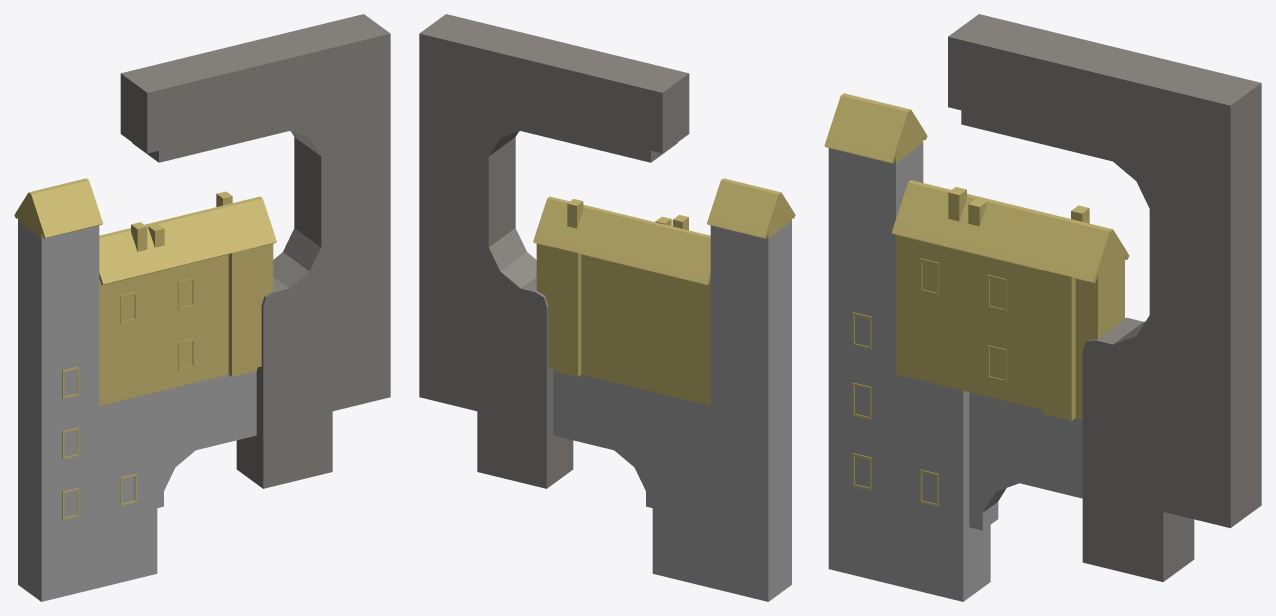
File: clifftest2.fbx
3 renders of one model, left to right at view 1: azimuth 30°, elevation 25°; view 2: azimuth 150°, elevation 25°; view 3: azimuth 330°, elevation 25°, orthographic. The views are drawn at different scales.
Visible parts, largest first — view 1: pCube47, pCube35, pCube37, pCube36, pCube38, pCube33, pCube45, pCube46, pCube30, pCube44, pCube31, pCube17 (+31 smaller); view 2: pCube47, pCube35, pCube37, pCube36, pCube38, pCube30, pCube31, pCube33, pCube44, pCube45, pCube46, pCube17 (+31 smaller); view 3: pCube47, pCube35, pCube20, pCube22, pCube25, pCube34, pCube21, pCube37, pCube38, pCube36, pCube32, pCube28 (+31 smaller).
Part boxes in pixels (x1=…): pCube47: x1=99, y1=196, x2=276, y2=285; pCube35: x1=306, y1=14, x2=390, y2=107; pCube37: x1=190, y1=42, x2=274, y2=136; pCube36: x1=248, y1=28, x2=332, y2=122; pCube38: x1=132, y1=56, x2=216, y2=150; pCube33: x1=18, y1=524, x2=99, y2=601; pCube45: x1=18, y1=282, x2=99, y2=359; pCube46: x1=18, y1=221, x2=99, y2=298; pCube30: x1=18, y1=464, x2=99, y2=541; pCube44: x1=18, y1=342, x2=99, y2=419; pCube31: x1=18, y1=403, x2=99, y2=480; pCube17: x1=273, y1=213, x2=332, y2=303; pCube47: x1=533, y1=196, x2=710, y2=285; pCube35: x1=419, y1=14, x2=503, y2=107; pCube37: x1=535, y1=42, x2=619, y2=136; pCube36: x1=477, y1=28, x2=561, y2=122; pCube38: x1=593, y1=56, x2=677, y2=150; pCube30: x1=710, y1=464, x2=791, y2=541; pCube31: x1=710, y1=403, x2=791, y2=480; pCube33: x1=710, y1=524, x2=791, y2=601; pCube44: x1=710, y1=342, x2=791, y2=419; pCube45: x1=710, y1=282, x2=791, y2=359; pCube46: x1=710, y1=221, x2=791, y2=298; pCube17: x1=477, y1=213, x2=536, y2=303; pCube47: x1=891, y1=180, x2=1129, y2=283; pCube35: x1=1163, y1=66, x2=1261, y2=175; pCube20: x1=1163, y1=365, x2=1261, y2=457; pCube22: x1=1163, y1=294, x2=1261, y2=387; pCube25: x1=1163, y1=224, x2=1261, y2=316; pCube34: x1=1163, y1=153, x2=1261, y2=246; pCube21: x1=1163, y1=435, x2=1261, y2=527; pCube37: x1=1028, y1=34, x2=1126, y2=143; pCube38: x1=961, y1=17, x2=1059, y2=126; pCube36: x1=1096, y1=50, x2=1193, y2=159; pCube32: x1=896, y1=515, x2=990, y2=601; pCube28: x1=1096, y1=495, x2=1194, y2=581.
Bounding box in the file's own units: 60 × 80 × 9.28.
